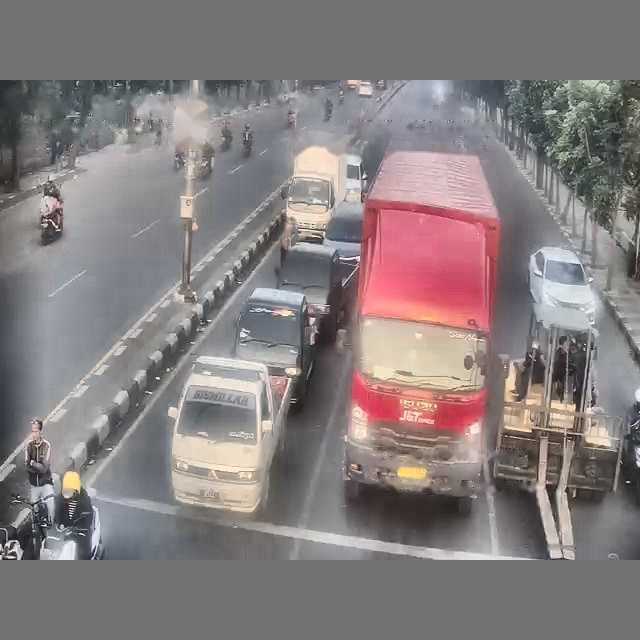Mobil: (233, 288, 316, 407), (528, 246, 595, 323), (323, 201, 363, 261), (345, 153, 367, 202), (358, 82, 373, 96), (376, 80, 386, 89)
Motor: (2, 495, 104, 559), (40, 505, 104, 559), (39, 196, 63, 244), (243, 132, 253, 157), (173, 152, 185, 169), (286, 111, 296, 127)
Truk: (344, 152, 499, 513), (168, 356, 291, 516), (281, 132, 347, 241)
